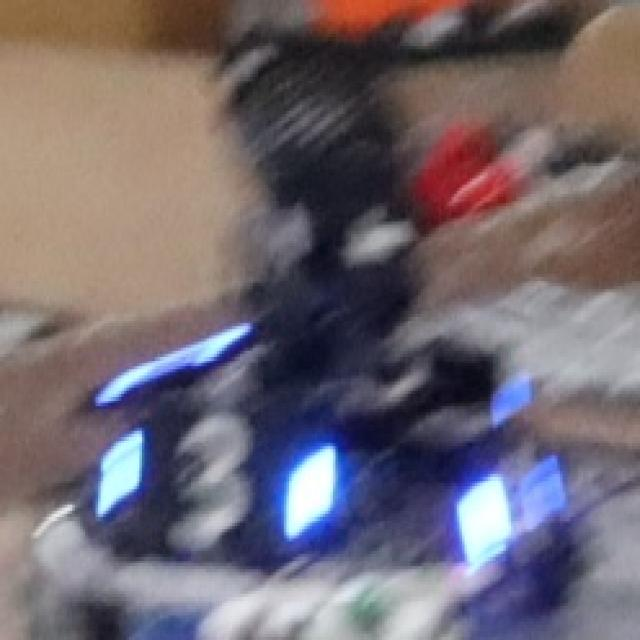B3: (98, 400, 330, 554)
B4: (457, 431, 570, 572)
